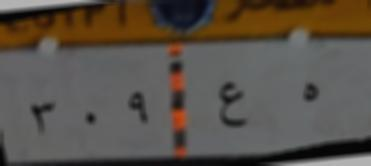0: (74, 100, 108, 146)
3: (21, 94, 59, 142)
9: (120, 85, 157, 136)
ain: (206, 71, 255, 136)
haa: (290, 76, 326, 110)
